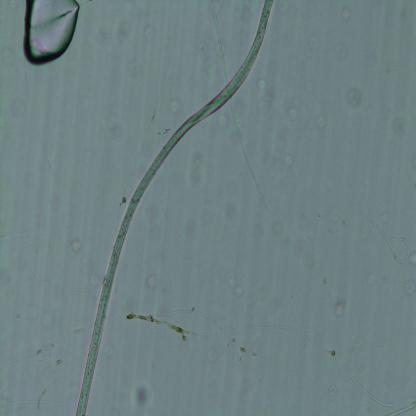Air bubble: (19, 0, 81, 67)
Background material: (125, 306, 192, 338), (398, 0, 410, 91), (98, 106, 126, 142), (270, 218, 295, 253), (184, 146, 206, 184), (128, 380, 154, 412), (223, 268, 247, 298), (60, 232, 82, 256), (113, 19, 134, 42), (330, 295, 349, 320), (343, 85, 363, 108), (166, 96, 186, 117), (100, 340, 118, 362), (396, 278, 416, 296), (305, 30, 322, 51), (13, 98, 27, 123), (332, 42, 350, 61), (183, 218, 198, 240), (220, 203, 238, 220), (145, 272, 160, 292), (142, 23, 157, 43), (322, 381, 343, 395), (85, 271, 101, 289), (300, 74, 314, 94), (195, 36, 208, 56), (255, 74, 271, 90), (155, 123, 173, 137), (336, 7, 352, 22), (278, 152, 294, 166), (303, 225, 318, 239), (313, 114, 326, 130), (214, 112, 227, 127), (306, 251, 318, 267), (288, 106, 300, 122), (0, 268, 12, 284), (392, 116, 403, 132), (116, 193, 128, 207), (320, 274, 329, 286), (325, 227, 333, 234), (340, 219, 346, 225), (34, 247, 38, 253), (28, 242, 32, 248)
Glass filter fibre: (215, 314, 416, 362), (230, 97, 270, 213), (6, 314, 85, 372), (354, 209, 415, 270), (214, 324, 258, 398), (151, 10, 180, 119), (18, 59, 40, 141), (210, 0, 229, 87), (151, 306, 222, 328), (94, 366, 126, 414), (352, 374, 394, 408), (0, 397, 77, 414), (29, 378, 57, 412), (388, 401, 416, 416), (103, 395, 122, 416), (364, 65, 403, 75), (0, 226, 32, 238)
Microfibre: (80, 0, 278, 416)
